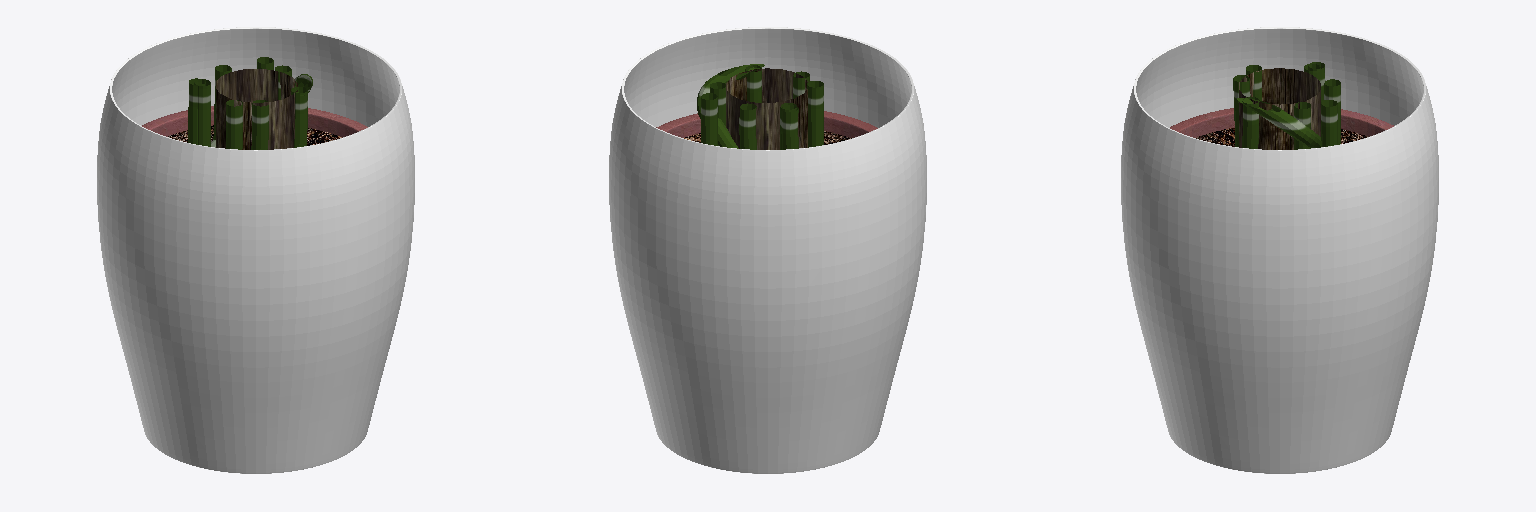
3 views of the same model, side by side, from view 1: azimuth 30°, elevation 25°; view 2: azimuth 150°, elevation 25°; view 3: azimuth 270°, elevation 25° (orthographic).
Visible parts, largest first — view 1: Cylinder001; view 2: Cylinder001; view 3: Cylinder001.
Boxes of the visible parts, x1,y1,x2,y2 form: Cylinder001: [97, 27, 414, 473]; Cylinder001: [609, 27, 926, 473]; Cylinder001: [1121, 27, 1438, 473].
Bounding box in the file's own units: 0.2822 × 0.3346 × 0.2822.
5 materials, 5 textured.